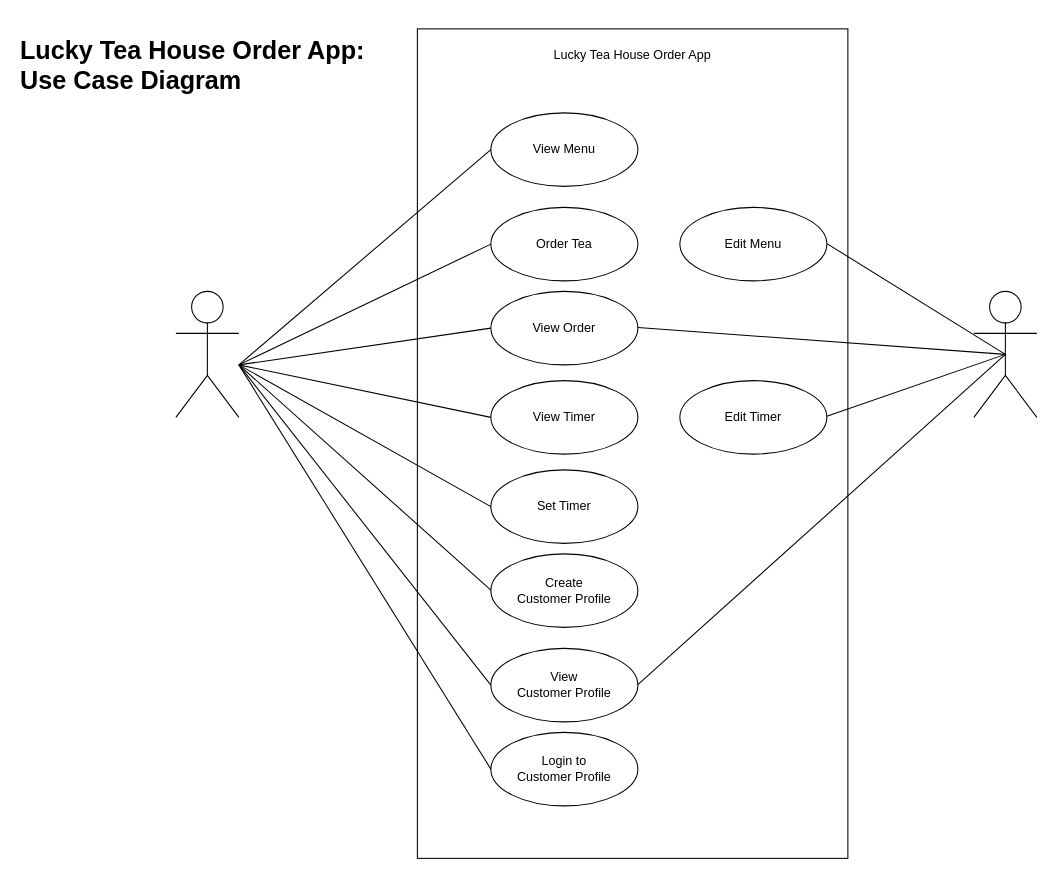
Some shapes in this 1055 by 877 pixel diagram are drawn without their labels. Each missing label, with the centre of its shape:
Admin: point (1005, 353)
Tea House Customer: point (207, 353)
